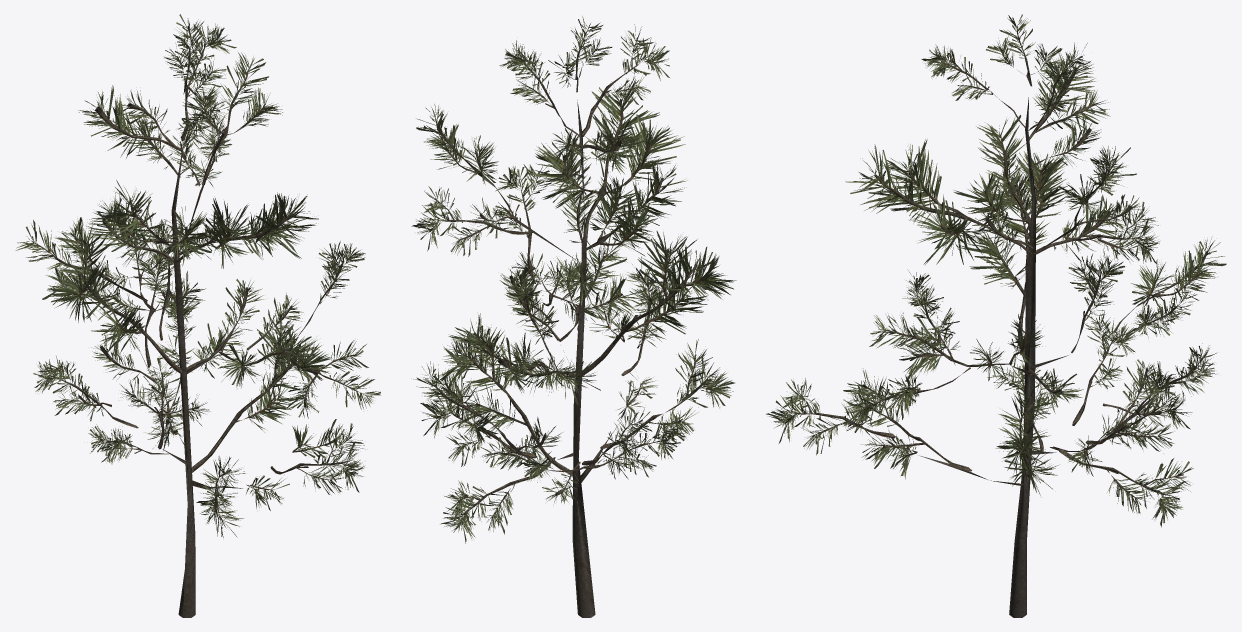
The model's file is pine_sapling_small.glb.
The picture shows the model from 3 angles, left to right: view 1: azimuth 30°, elevation 25°; view 2: azimuth 150°, elevation 25°; view 3: azimuth 270°, elevation 25°; orthographic projection. The views are drawn at different scales.
Visible parts, largest first — view 1: pine_sapling_small_b; view 2: pine_sapling_small_b; view 3: pine_sapling_small_b.
Boxes of the visible parts, x1,y1,x2,y2 form: pine_sapling_small_b: (15,14,380,617); pine_sapling_small_b: (411,16,736,617); pine_sapling_small_b: (766,14,1226,617).
Bounding box in the file's own units: 0.5288 × 1.05 × 0.7303.
Materials: 2 (2 with a texture image).
